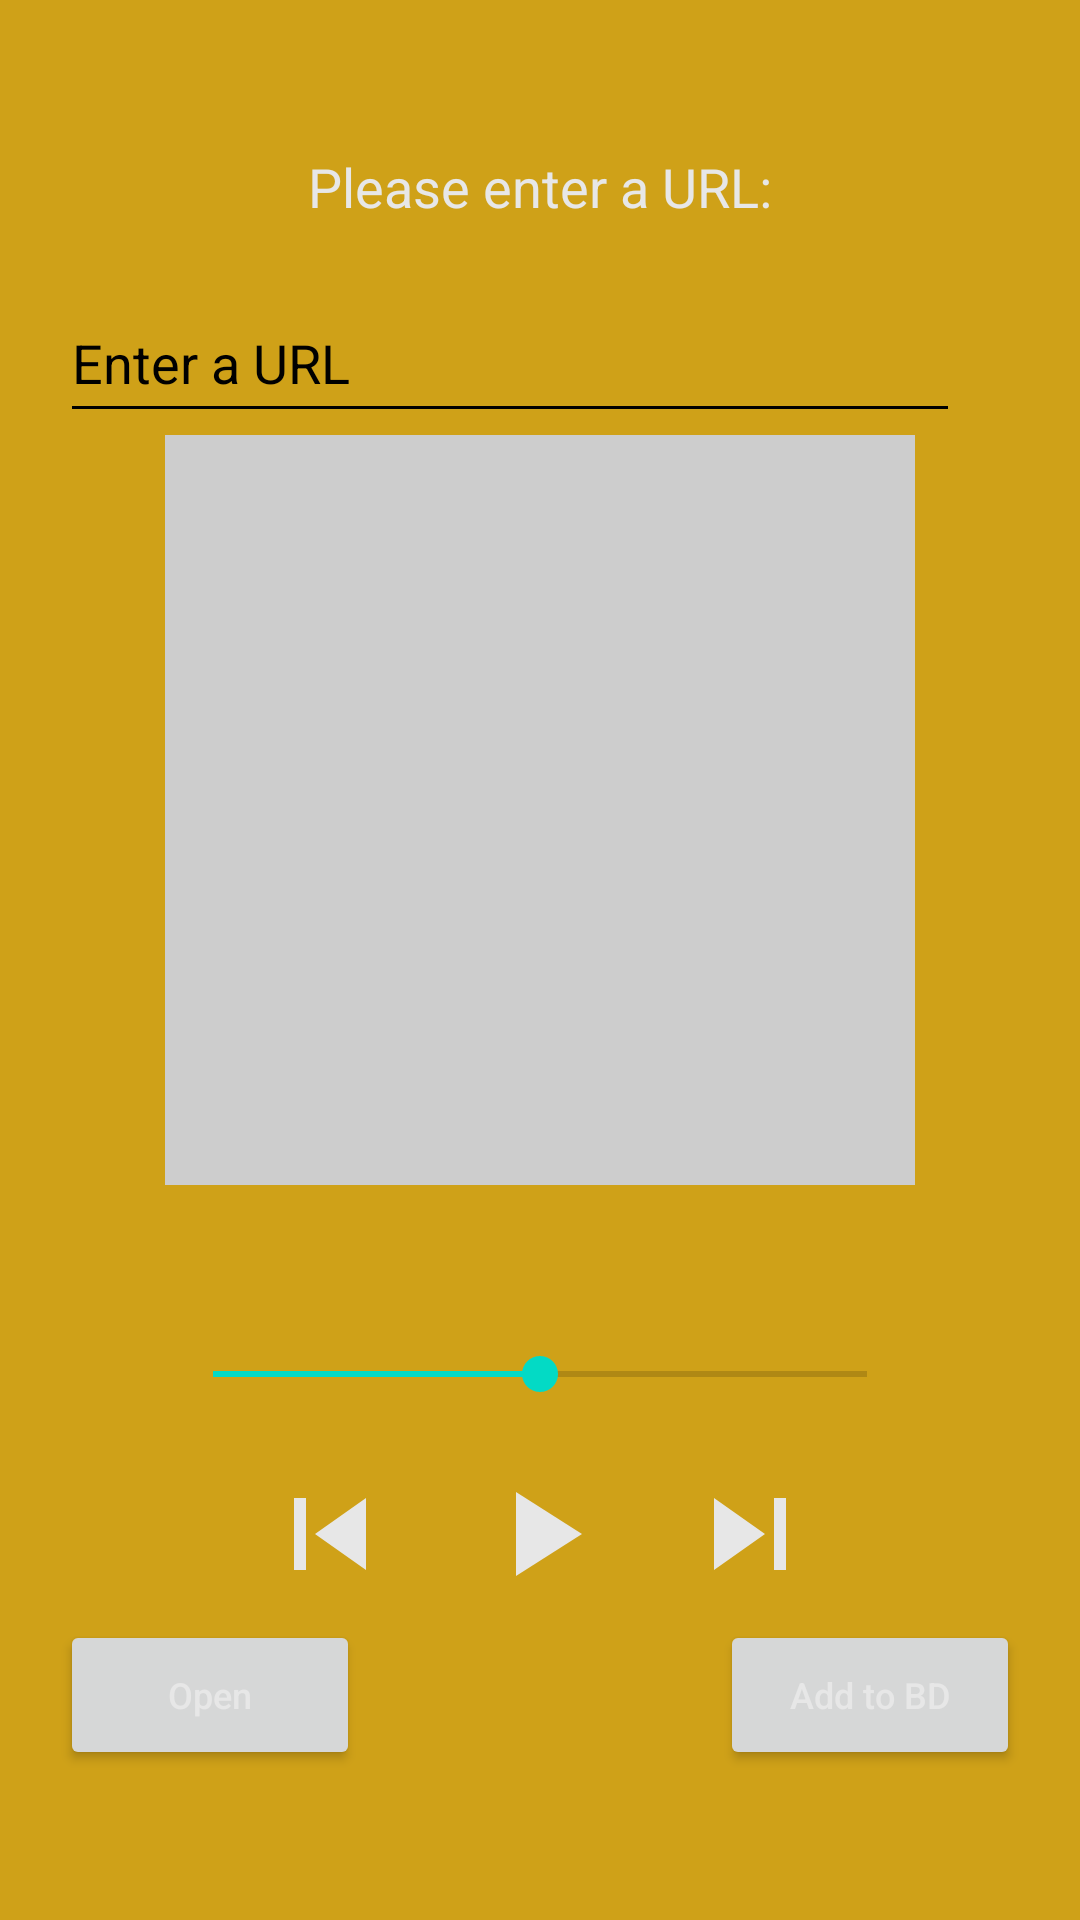

Icon bounding boxes for this 1080px x 1920px phone screenshot, format bbox=[x1, y1, x2, y2]:
next: bbox=[714, 1498, 786, 1570]
play: bbox=[516, 1492, 582, 1576]
previous: bbox=[294, 1498, 366, 1570]
